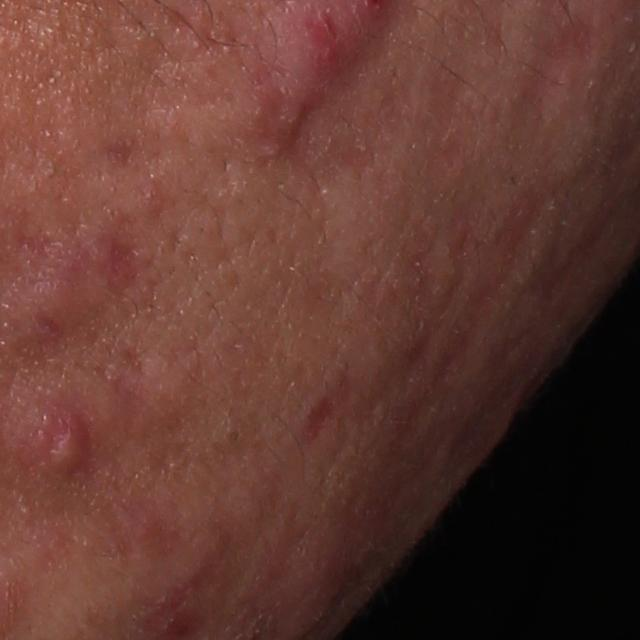atrophic_scar: (306, 392, 334, 440)
comedo: (221, 423, 248, 448)
